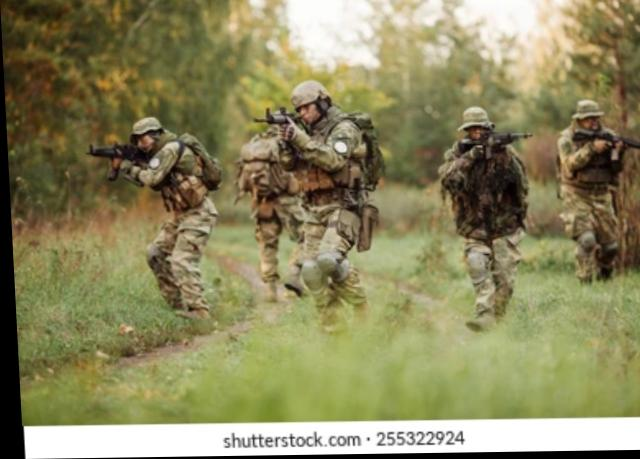other: (280, 80, 375, 318), (438, 108, 531, 330), (126, 117, 218, 310), (554, 101, 626, 280), (235, 128, 301, 307)
